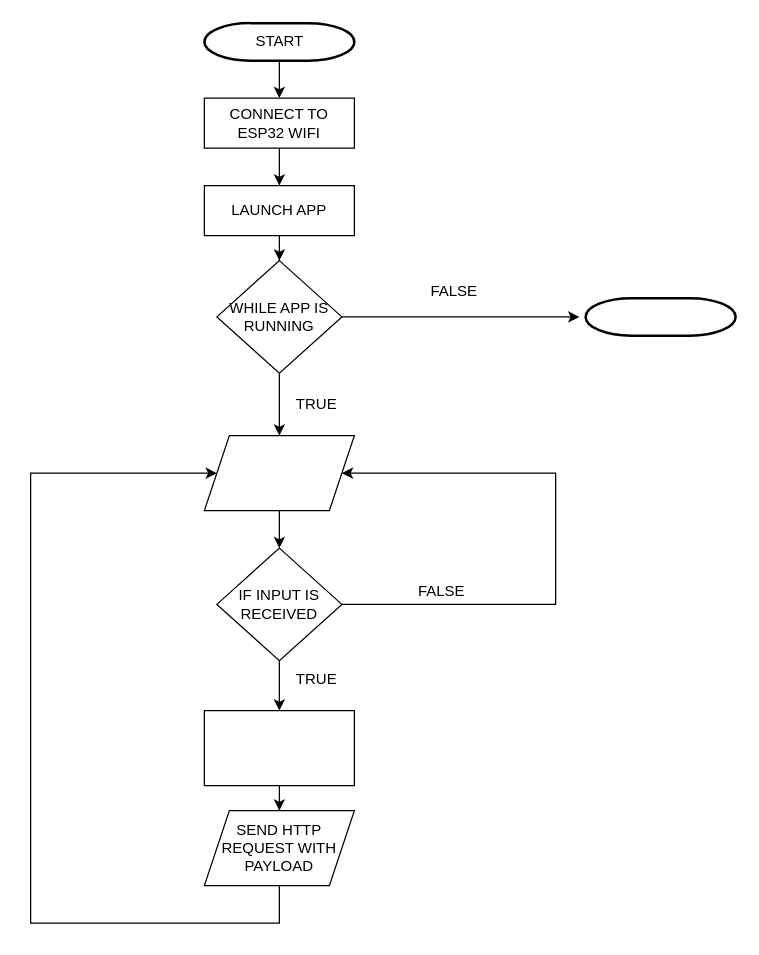
This 759x955 diagram has some shape labels left out. Here are the shapes that lost their labels. From the top down, the box of each, then its label:
(584, 296, 736, 336): STOP
(203, 434, 354, 511): LISTEN FOR INPUTS
(203, 709, 354, 786): CREATE PAYLOAD WITH CONTROL VALUES
